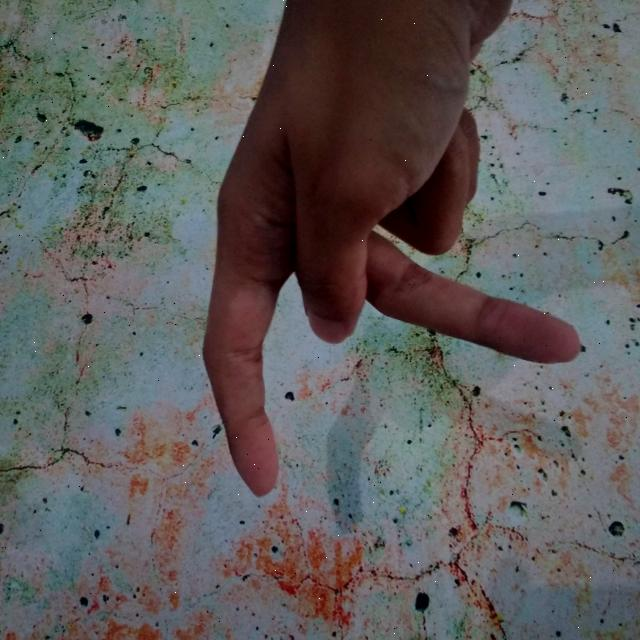P: (192, 0, 593, 506)
